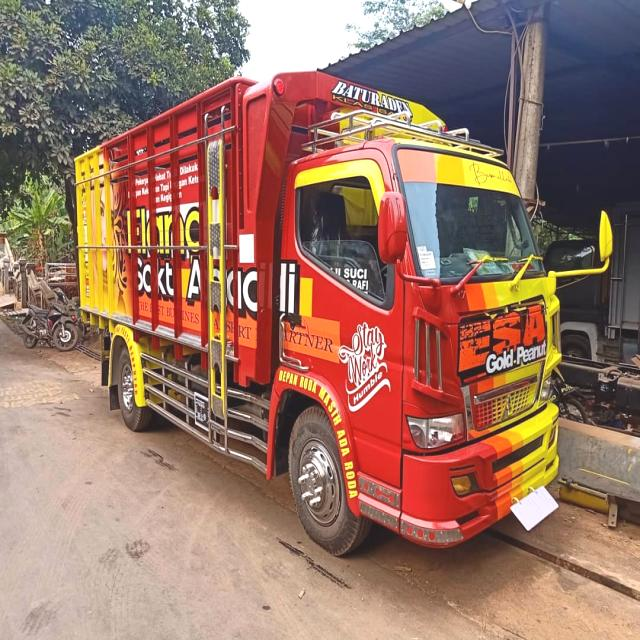truck: (76, 70, 610, 555)
